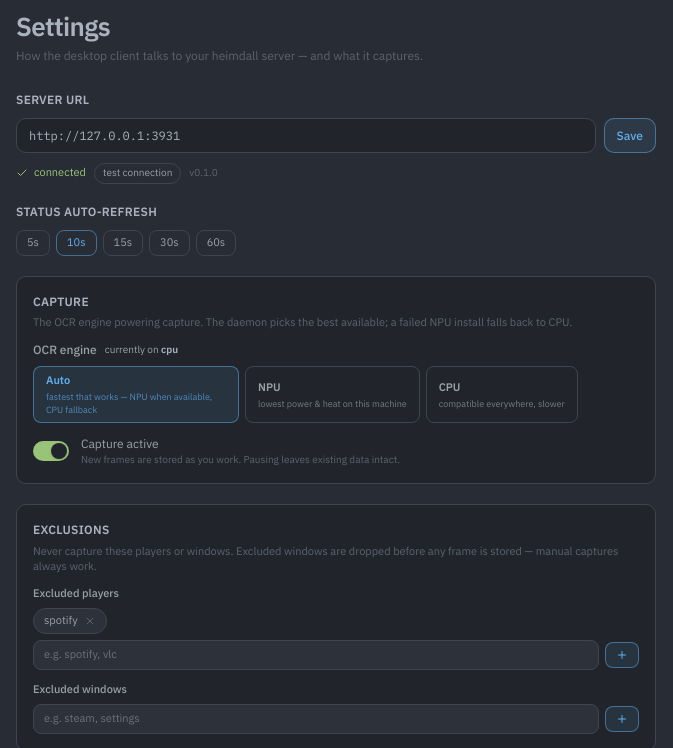
Test case: SettingsSurface · capture › writes a new engine through POST /settings
The image size is (673, 748).
Click the button "NPU lowest power & heat on this machine" at (332, 395), box [245,366,420,423]
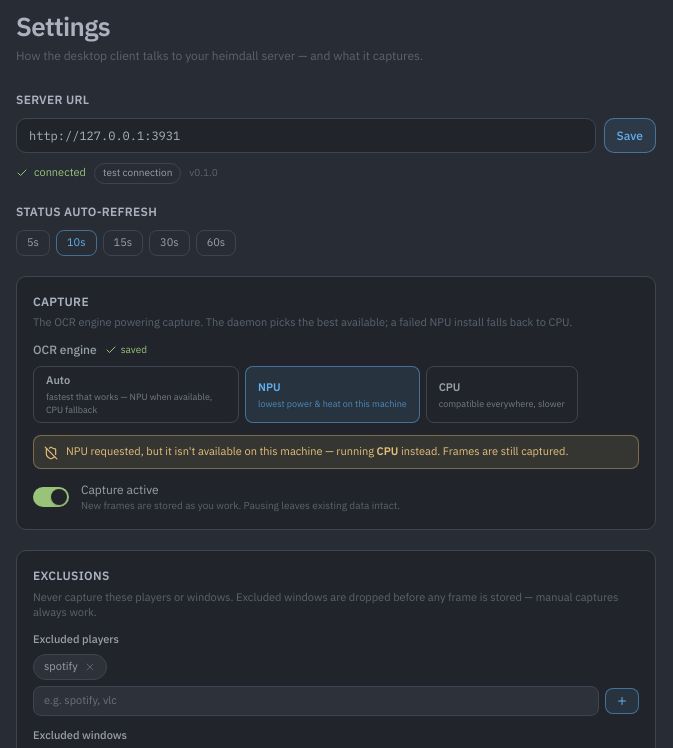
expect the text "saved" is shown: met, box [105,343,147,358]
